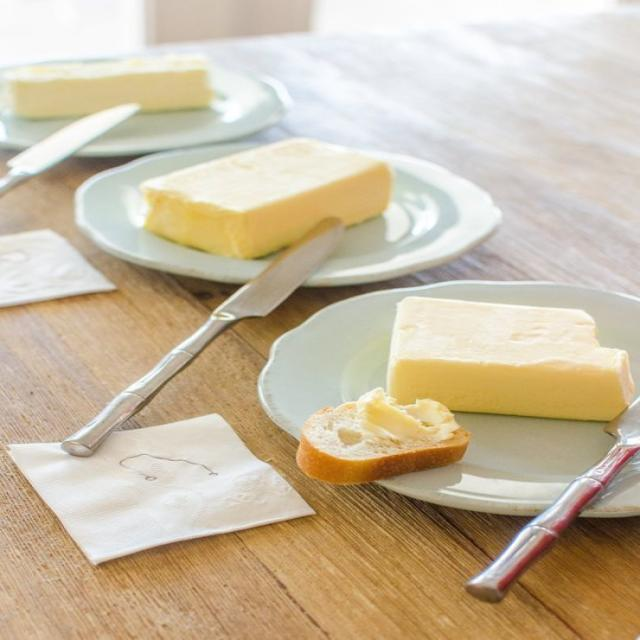Butter: (388, 298, 638, 430), (144, 134, 386, 257)
